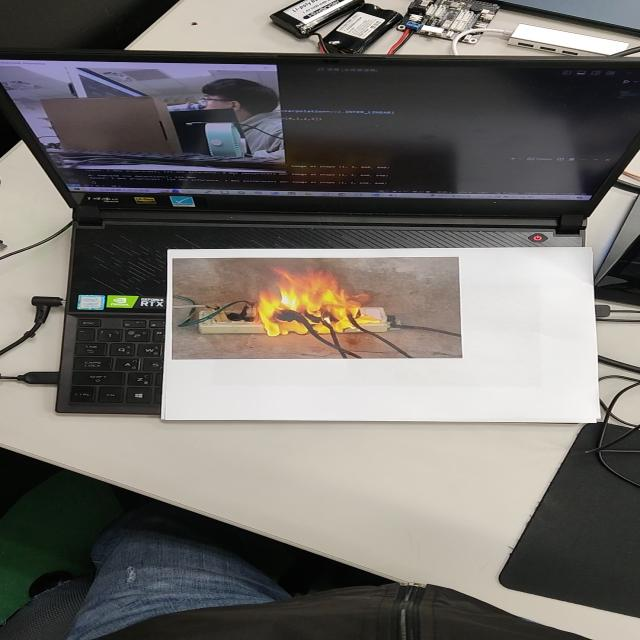person: (200, 72, 274, 148)
